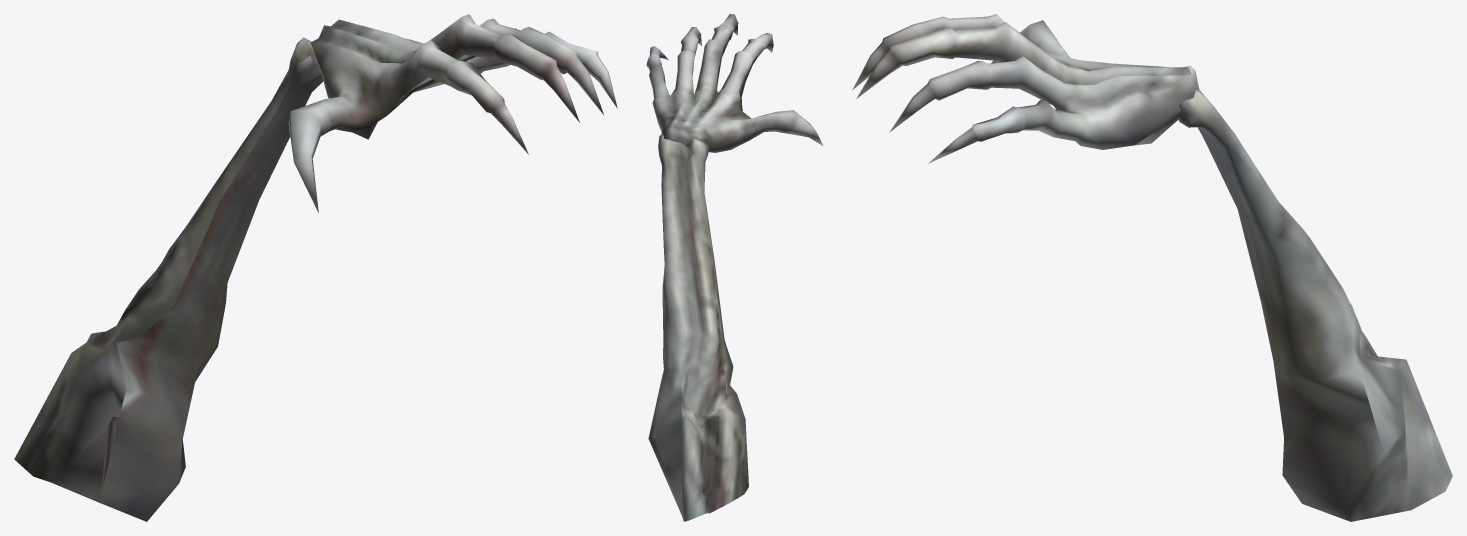
File: S_Build_Snowland222.FBX
3 renders of one model, left to right at view 1: azimuth 30°, elevation 25°; view 2: azimuth 150°, elevation 25°; view 3: azimuth 270°, elevation 25°, orthographic. The views are drawn at different scales.
Parts seen in each view (by area): view 1: S_Build_Snowland222; view 2: S_Build_Snowland222; view 3: S_Build_Snowland222.
Boxes of the visible parts, x1,y1,x2,y2 form: S_Build_Snowland222: [14, 14, 617, 521]; S_Build_Snowland222: [646, 14, 823, 521]; S_Build_Snowland222: [852, 14, 1452, 521].
Bounding box in the file's own units: 84.19 × 127 × 131.
